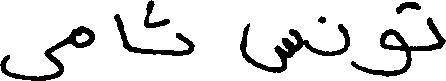X: (353, 0, 410, 80), (240, 18, 302, 77), (0, 36, 62, 80), (427, 12, 445, 55), (114, 9, 129, 56), (73, 21, 94, 52), (177, 28, 194, 60), (340, 19, 349, 59)
